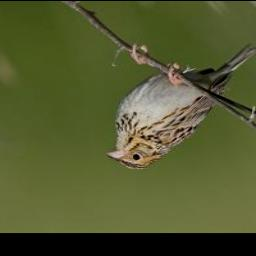Sparrow: (108, 44, 256, 172)
